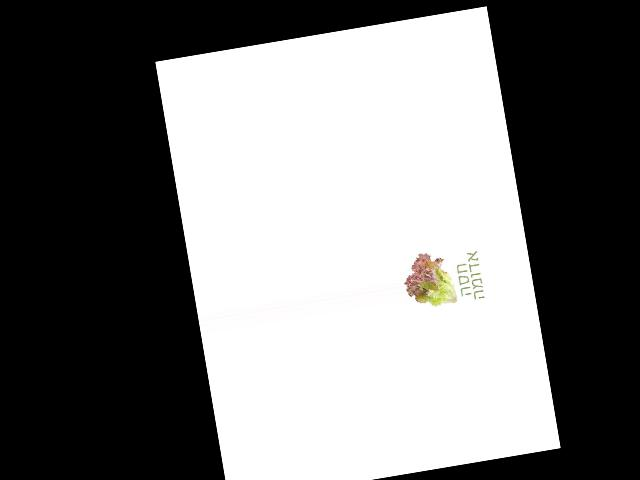lettuce: (399, 247, 460, 316)
